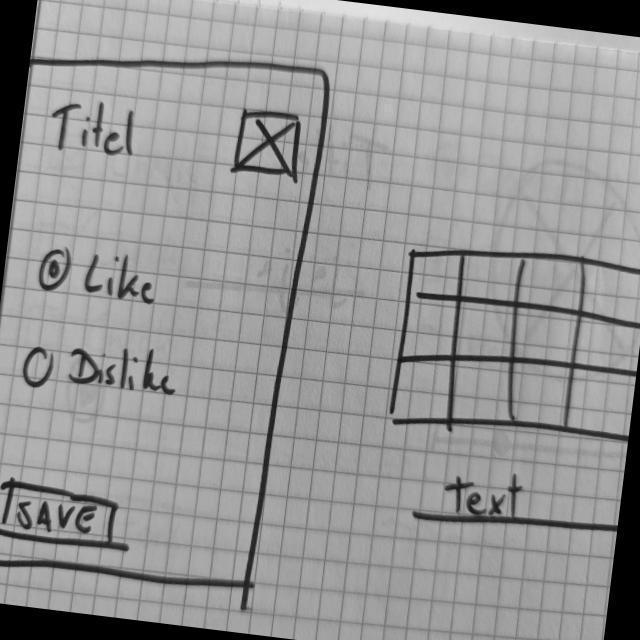button: (1, 476, 125, 554)
container: (1, 31, 337, 608)
image: (231, 106, 310, 184)
input: (408, 456, 624, 547)
label: (44, 92, 144, 165)
radio: (33, 241, 73, 293), (23, 339, 58, 394)
table: (386, 231, 640, 456)
